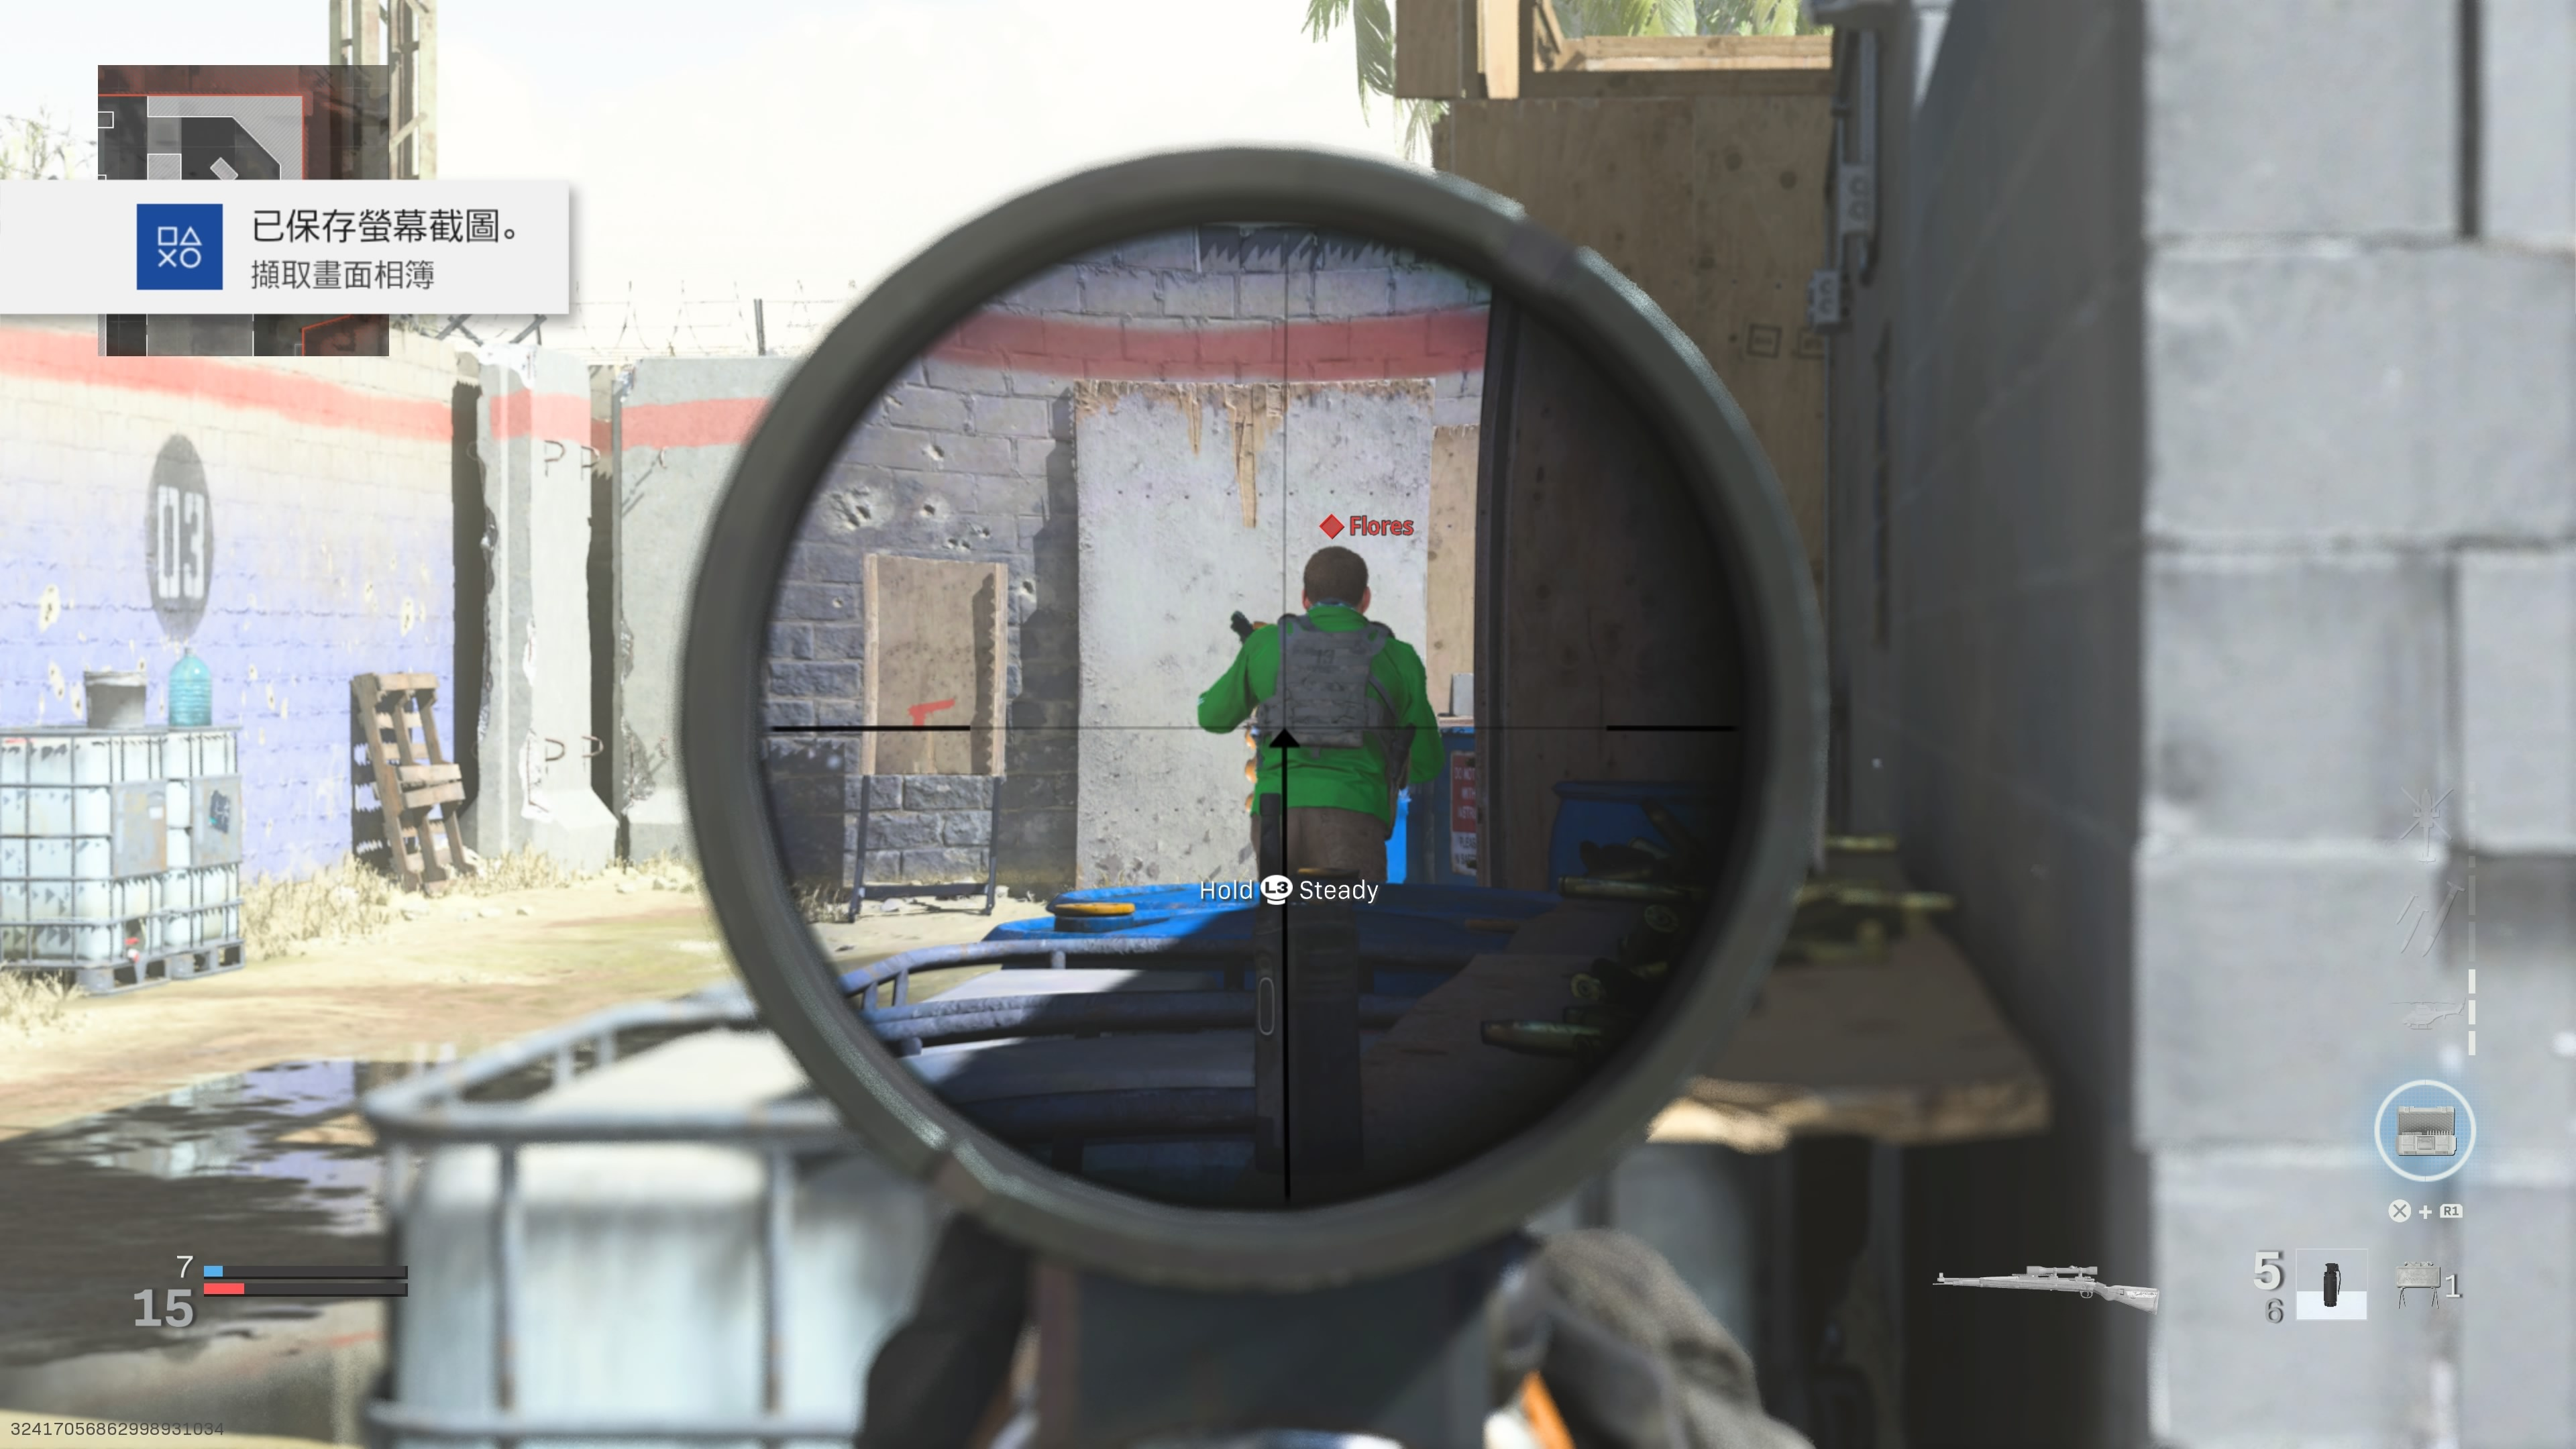head: (1296, 541, 1377, 627)
person: (1190, 545, 1432, 874)
